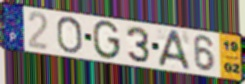2: (27, 10, 51, 52)
3: (125, 25, 151, 64)
6: (192, 34, 217, 73)
A: (157, 29, 192, 71)
G: (92, 19, 122, 61)
O: (55, 15, 84, 55)
